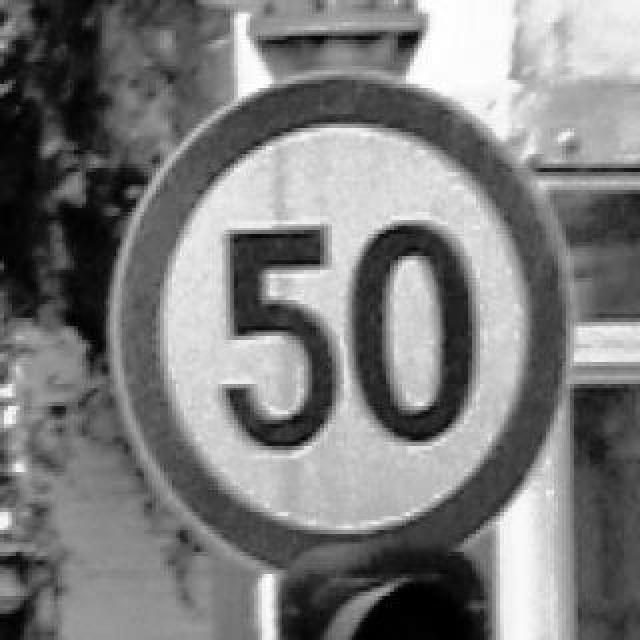50 kph: (106, 62, 574, 578)
